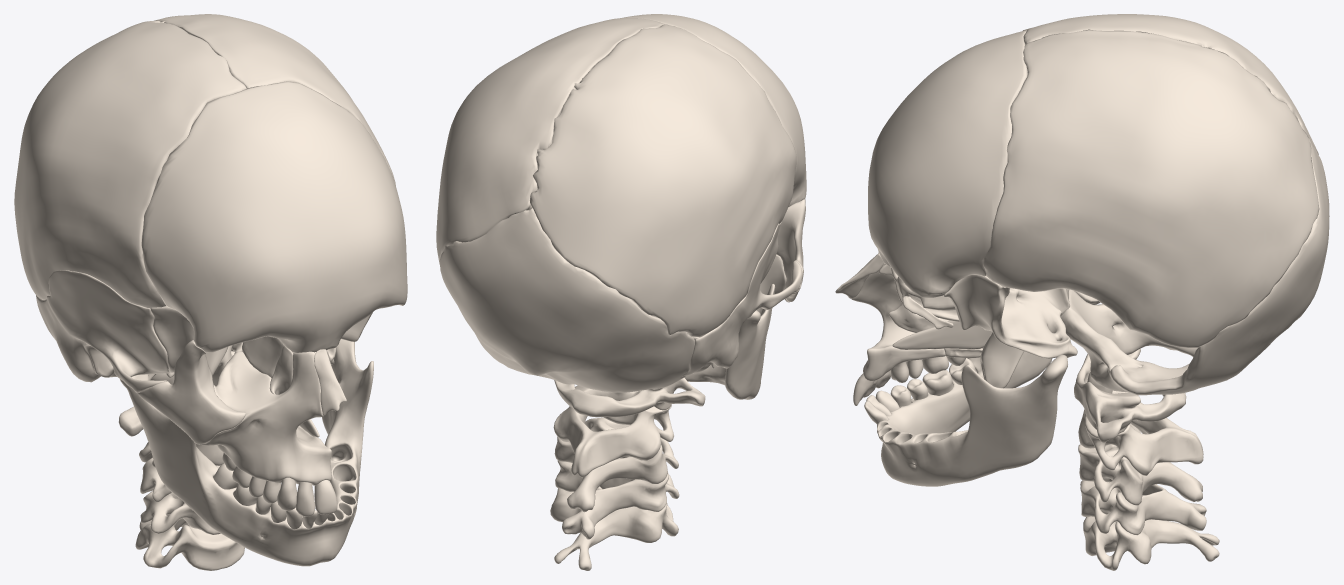
The model's file is SKULL.glb.
The picture shows the model from 3 angles, left to right: view 1: azimuth 30°, elevation 25°; view 2: azimuth 150°, elevation 25°; view 3: azimuth 270°, elevation 25°; orthographic projection. The views are drawn at different scales.
Visible parts, largest first — view 1: Frontal bone, Parietal bone right, Mandible bone, Maxilla bone.r, Temporal bone.r, Parietal bone left, Zygomatic bone.r, Cervical vertebrae (C5), Sphenoid bone, Cervical vertebrae (C4), Ethmoid Bone, Nasal bone.r (+7 smaller); view 2: Parietal bone right, Occipital bone, Parietal bone left, Axis (C2), Frontal bone, Temporal bone.r, Cervical vertebrae (C4), Cervical vertebrae (C5), Cervical vertebrae (C3), Mandible bone, Atlas (C1), Zygomatic bone.r (+1 smaller); view 3: Parietal bone left, Frontal bone, Mandible bone, Occipital bone, Sphenoid bone, Parietal bone right, Axis (C2), Cervical vertebrae (C4), Cervical vertebrae (C5), Atlas (C1), Cervical vertebrae (C3), Maxilla bone.r (+4 smaller).
Part boxes in pixels (x1,y1,x2,y2): Frontal bone: (141, 81, 407, 352); Parietal bone right: (14, 20, 246, 308); Mandible bone: (120, 339, 373, 566); Maxilla bone.r: (200, 351, 331, 485); Temporal bone.r: (36, 270, 168, 392); Parietal bone left: (154, 14, 395, 185); Zygomatic bone.r: (138, 340, 245, 444); Cervical vertebrae (C5): (135, 515, 244, 570); Sphenoid bone: (150, 306, 372, 386); Cervical vertebrae (C4): (140, 491, 220, 534); Ethmoid Bone: (242, 336, 335, 377); Nasal bone.r: (314, 349, 346, 415); Parietal bone right: (530, 24, 796, 337); Occipital bone: (439, 208, 694, 392); Parietal bone left: (436, 18, 663, 264); Axis (C2): (553, 385, 673, 477); Frontal bone: (622, 14, 806, 206); Temporal bone.r: (682, 221, 802, 376); Cervical vertebrae (C4): (555, 458, 679, 539); Cervical vertebrae (C5): (550, 486, 678, 570); Cervical vertebrae (C3): (554, 417, 678, 512); Mandible bone: (684, 284, 775, 399); Atlas (C1): (554, 377, 705, 417); Zygomatic bone.r: (776, 199, 805, 301); Parietal bone left: (983, 29, 1319, 347); Frontal bone: (868, 30, 1027, 297); Mandible bone: (877, 348, 1067, 486); Occipital bone: (1060, 138, 1329, 395); Sphenoid bone: (943, 275, 1077, 388); Parietal bone right: (1023, 14, 1318, 154); Axis (C2): (1078, 372, 1203, 475); Cervical vertebrae (C4): (1080, 457, 1206, 535); Cervical vertebrae (C5): (1083, 489, 1219, 570); Atlas (C1): (1074, 348, 1186, 442); Cervical vertebrae (C3): (1078, 423, 1202, 505); Maxilla bone.r: (851, 265, 945, 380).
Size of the model in its own units: 0.1485 by 0.2376 by 0.2038.
